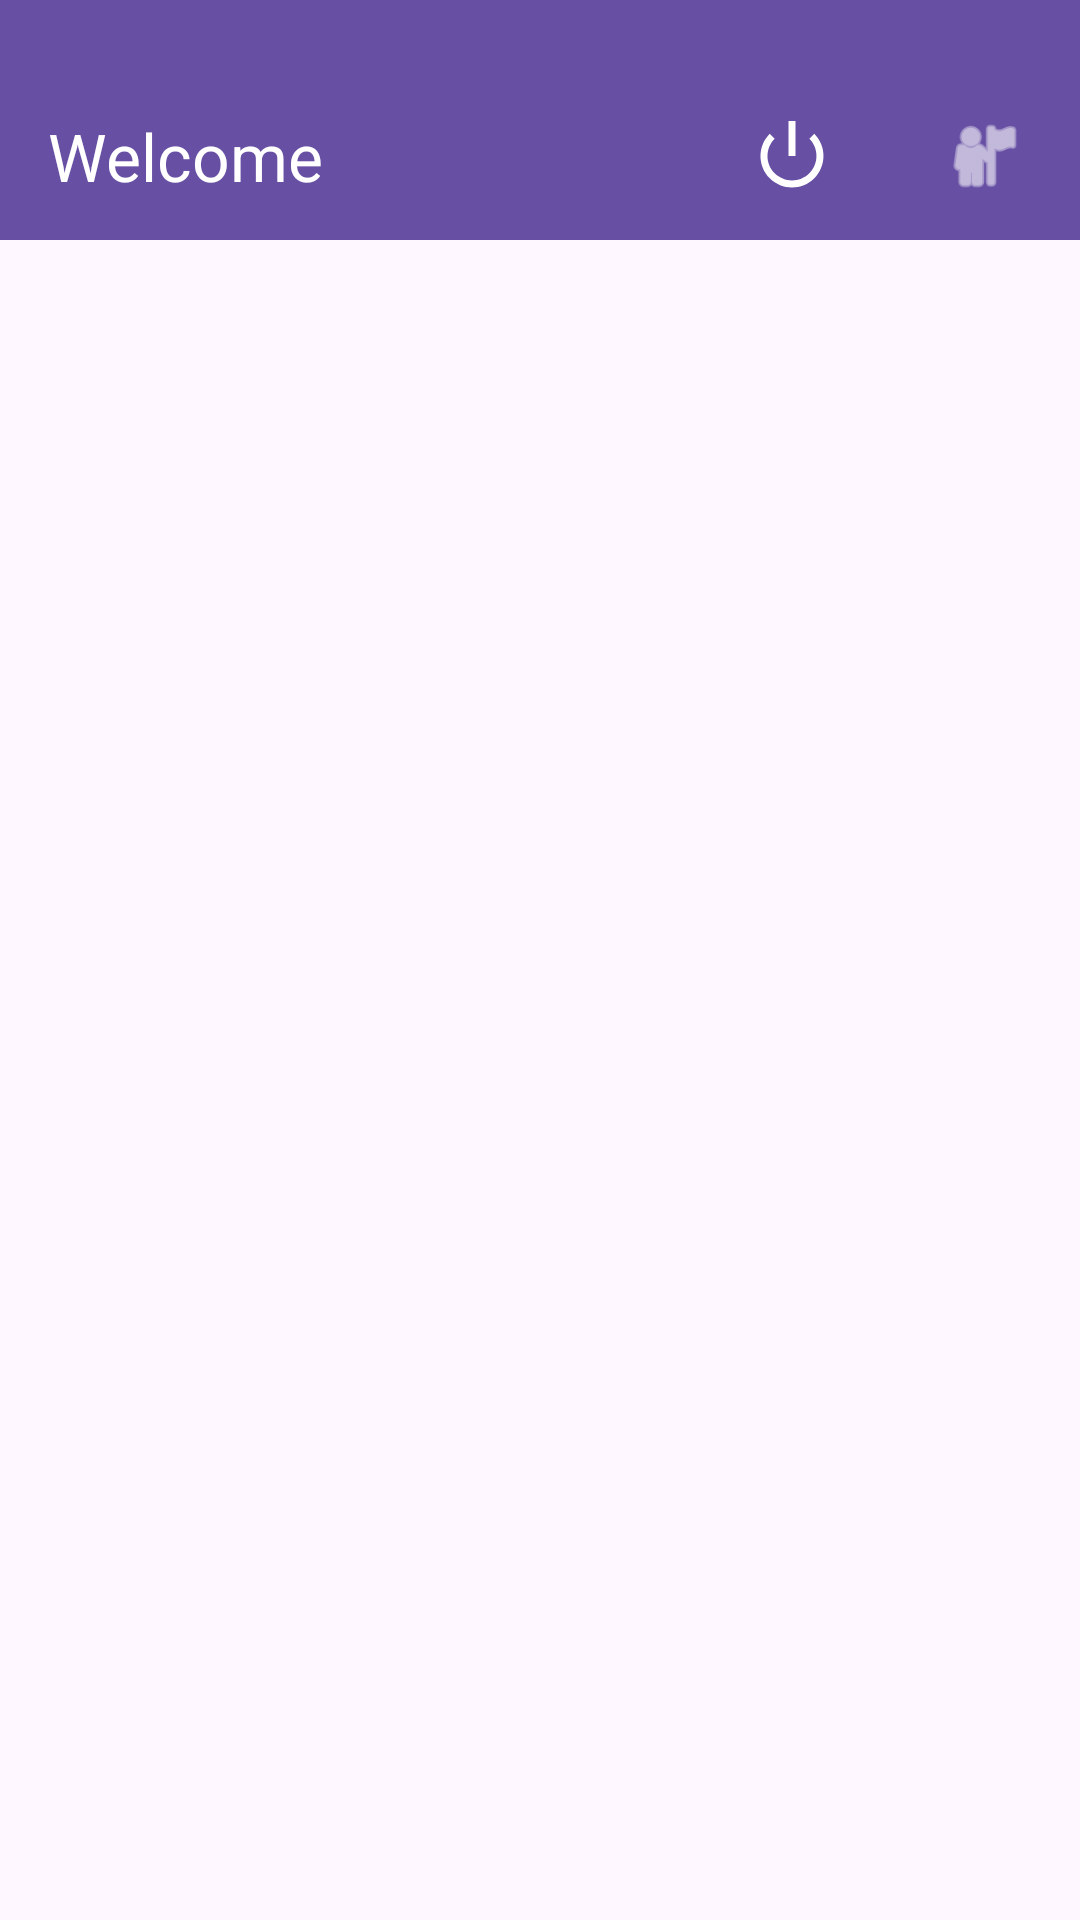

Point at icon controls on the screen. Image size 1080px×1920px, points as (x,y).
Sign Out: (792,154)
